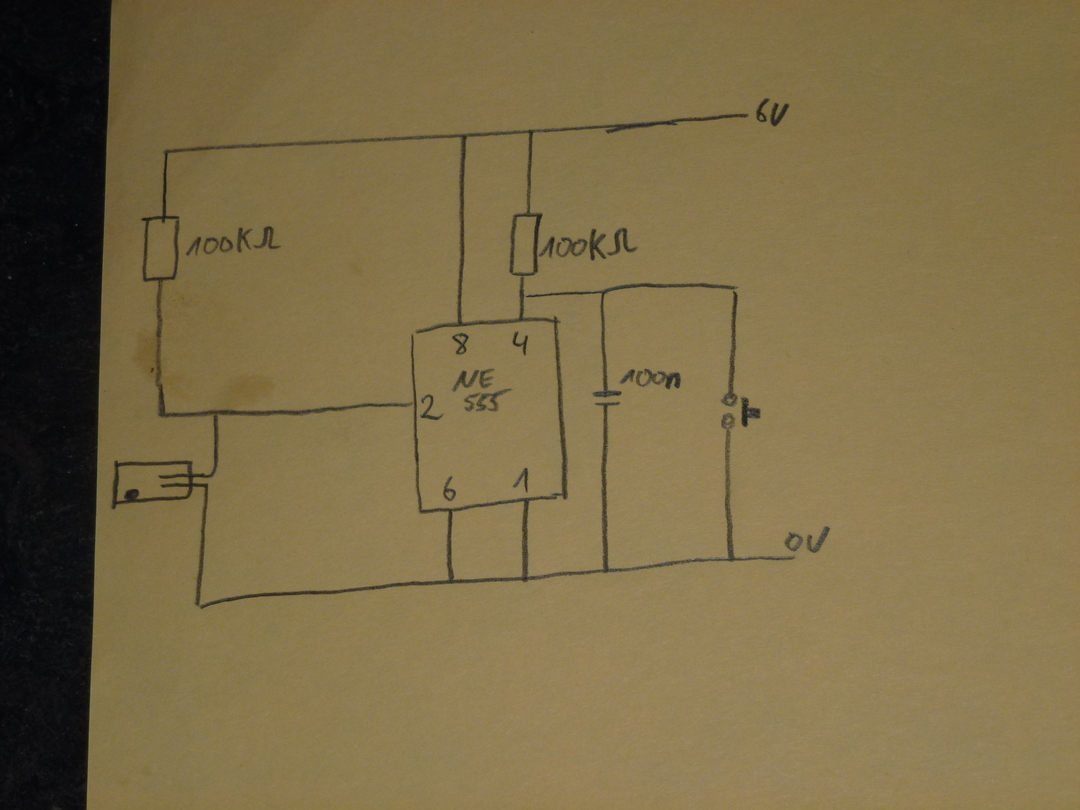capacitor.unpolarized: (591, 389, 624, 408)
integrated_cricuit.ne555: (409, 314, 569, 513)
junction: (191, 596, 210, 613), (728, 281, 743, 297), (518, 573, 532, 585), (457, 131, 471, 142), (724, 553, 738, 564), (155, 410, 168, 421), (526, 126, 537, 138), (445, 576, 457, 587), (599, 565, 612, 575), (598, 287, 609, 298), (517, 291, 529, 301), (211, 407, 221, 419), (162, 147, 172, 157), (206, 471, 218, 479), (203, 481, 211, 489)
resistor: (140, 214, 181, 283), (508, 209, 543, 278)
switch: (110, 459, 194, 510), (719, 392, 762, 432)
terminal: (788, 552, 800, 565), (740, 110, 753, 120)
text: (538, 227, 639, 261), (184, 225, 282, 258), (451, 368, 514, 412), (619, 368, 683, 391), (784, 526, 831, 554), (755, 97, 790, 128), (420, 393, 444, 421), (512, 466, 530, 495), (511, 330, 530, 357), (451, 332, 470, 356), (442, 475, 457, 502)
